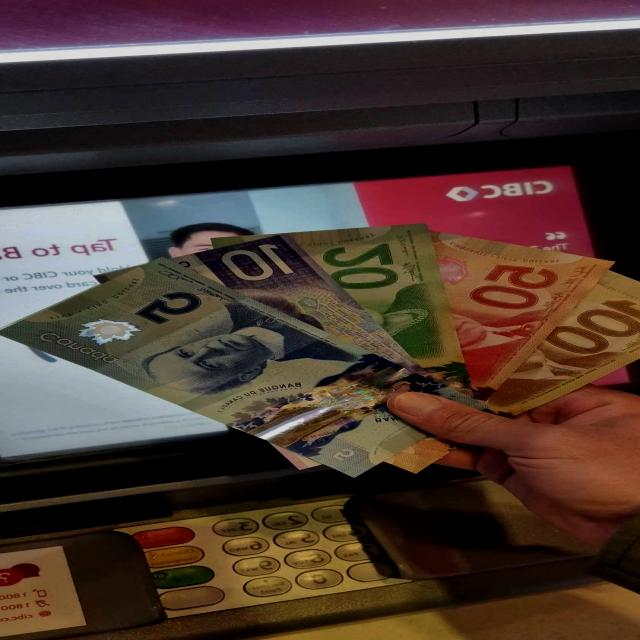10 cad: (168, 240, 463, 394)
100 cad: (483, 272, 640, 419)
20 cad: (295, 227, 461, 388)
5 cad: (0, 259, 415, 458)
50 cad: (427, 232, 609, 397)
